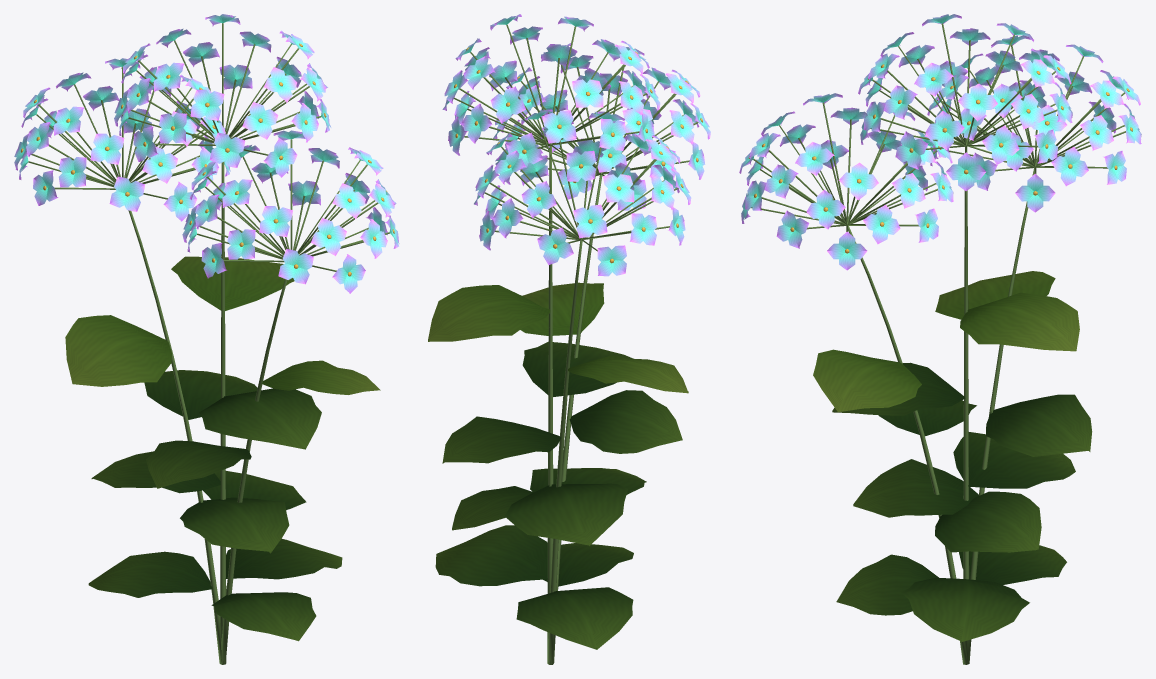
Rendered from hydrangea-dream-10-lod.glb.
The picture shows the model from 3 angles, left to right: view 1: azimuth 30°, elevation 25°; view 2: azimuth 150°, elevation 25°; view 3: azimuth 270°, elevation 25°; orthographic projection.
Visible parts, largest first — view 1: hydrangea_dream_stage_10_hydrangea_petal.021, hydrangea_dream_stage_10_leaf_veins.021, hydrangea_dream_stage_10_stem_fibres.021, hydrangea_dream_stage_10_young_leaf.021, hydrangea_dream_stage_10_pollen_granules.021; view 2: hydrangea_dream_stage_10_leaf_veins.021, hydrangea_dream_stage_10_hydrangea_petal.021, hydrangea_dream_stage_10_stem_fibres.021, hydrangea_dream_stage_10_young_leaf.021, hydrangea_dream_stage_10_pollen_granules.021; view 3: hydrangea_dream_stage_10_leaf_veins.021, hydrangea_dream_stage_10_hydrangea_petal.021, hydrangea_dream_stage_10_young_leaf.021, hydrangea_dream_stage_10_stem_fibres.021, hydrangea_dream_stage_10_pollen_granules.021.
Part boxes in pixels (x1,y1,x2,y2): hydrangea_dream_stage_10_hydrangea_petal.021: [14, 14, 399, 293]; hydrangea_dream_stage_10_leaf_veins.021: [88, 370, 342, 641]; hydrangea_dream_stage_10_stem_fibres.021: [28, 23, 389, 664]; hydrangea_dream_stage_10_young_leaf.021: [65, 256, 380, 394]; hydrangea_dream_stage_10_pollen_granules.021: [20, 43, 394, 276]; hydrangea_dream_stage_10_leaf_veins.021: [435, 341, 682, 649]; hydrangea_dream_stage_10_hydrangea_petal.021: [442, 14, 710, 276]; hydrangea_dream_stage_10_stem_fibres.021: [454, 24, 698, 664]; hydrangea_dream_stage_10_young_leaf.021: [428, 282, 688, 393]; hydrangea_dream_stage_10_pollen_granules.021: [454, 47, 702, 263]; hydrangea_dream_stage_10_leaf_veins.021: [832, 362, 1092, 642]; hydrangea_dream_stage_10_hydrangea_petal.021: [739, 14, 1141, 270]; hydrangea_dream_stage_10_young_leaf.021: [813, 271, 1079, 412]; hydrangea_dream_stage_10_stem_fibres.021: [751, 23, 1125, 664]; hydrangea_dream_stage_10_pollen_granules.021: [748, 64, 1132, 253].
Size of the model in its own units: 0.3726 by 0.8071 by 0.4716.
Materials: 5 (3 with a texture image).
